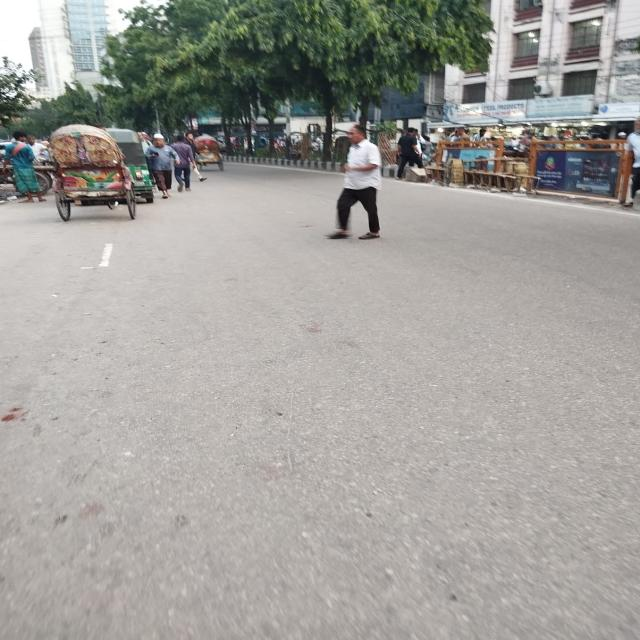person: (327, 125, 382, 240), (146, 134, 180, 199), (170, 135, 195, 192)
